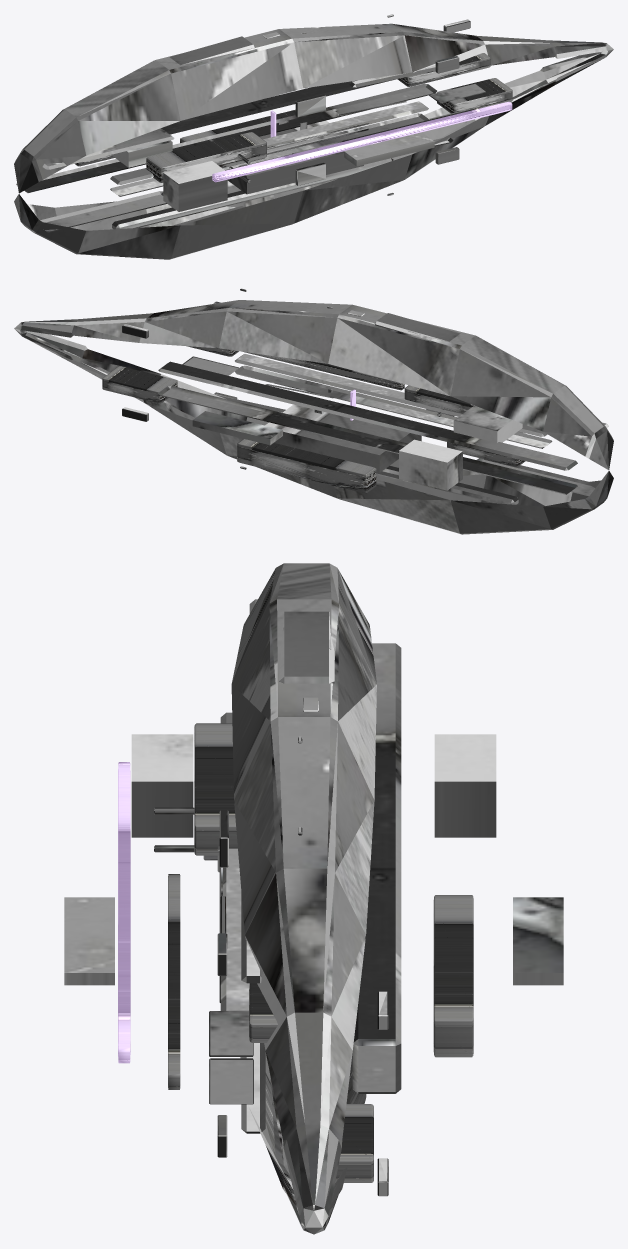
The model's file is hull_multirole.glb.
3 views of the same model, one above another, from view 1: azimuth 30°, elevation 25°; view 2: azimuth 150°, elevation 25°; view 3: azimuth 270°, elevation 25° (orthographic). The views are drawn at different scales.
Visible parts, largest first — view 1: LOD0_HULL_MULTIROLE_MAIN, DET_violet_stripe, DET_salvage_patch, DET_smuggler_hatch, DET_mismatched_panel, DET_cargo_rig, DET_jury_weld; view 2: LOD0_HULL_MULTIROLE_MAIN, DET_cargo_rig, DET_smuggler_hatch, DET_jury_weld, DET_salvage_patch, DET_field_repair; view 3: LOD0_HULL_MULTIROLE_MAIN, DET_cargo_rig, DET_salvage_patch, DET_violet_stripe, DET_jury_weld, DET_smuggler_hatch, DET_mismatched_panel.
Boxes of the visible parts, left/top/right/bottom form: LOD0_HULL_MULTIROLE_MAIN: left=14, top=14, right=613, bottom=259; DET_violet_stripe: left=212, top=101, right=512, bottom=182; DET_salvage_patch: left=146, top=132, right=266, bottom=182; DET_smuggler_hatch: left=437, top=78, right=512, bottom=113; DET_mismatched_panel: left=397, top=53, right=490, bottom=86; DET_cargo_rig: left=180, top=109, right=295, bottom=143; DET_jury_weld: left=292, top=103, right=500, bottom=154; LOD0_HULL_MULTIROLE_MAIN: left=14, top=288, right=613, bottom=534; DET_cargo_rig: left=237, top=439, right=376, bottom=493; DET_smuggler_hatch: left=102, top=366, right=177, bottom=403; DET_jury_weld: left=244, top=352, right=404, bottom=390; DET_salvage_patch: left=404, top=385, right=473, bottom=413; DET_field_repair: left=447, top=442, right=525, bottom=466; LOD0_HULL_MULTIROLE_MAIN: left=64, top=563, right=563, bottom=1234; DET_cargo_rig: left=433, top=895, right=473, bottom=1057; DET_salvage_patch: left=194, top=723, right=237, bottom=855; DET_violet_stripe: left=118, top=762, right=130, bottom=1063; DET_jury_weld: left=168, top=874, right=180, bottom=1089; DET_smuggler_hatch: left=335, top=1104, right=373, bottom=1182; DET_mismatched_panel: left=249, top=983, right=277, bottom=1042.
Bounding box in the file's own units: 12.18 × 3.78 × 4.45.
Materials: 3 (3 with a texture image).
